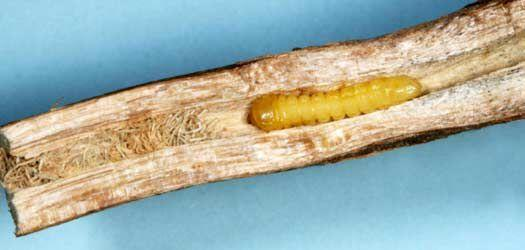insect: (245, 75, 427, 134)
